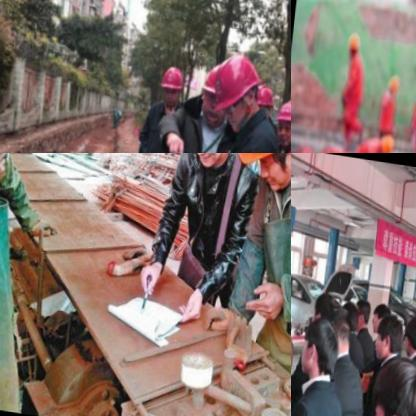head: (364, 345, 416, 416), (296, 312, 343, 381), (373, 306, 406, 355), (324, 293, 352, 346), (309, 282, 336, 324), (370, 293, 394, 333), (340, 292, 362, 331), (354, 289, 373, 328), (403, 305, 416, 352)
helmet: (210, 47, 265, 131), (200, 58, 234, 125), (236, 153, 291, 194), (160, 62, 187, 107), (255, 75, 278, 116), (275, 91, 291, 145), (377, 128, 398, 153)
